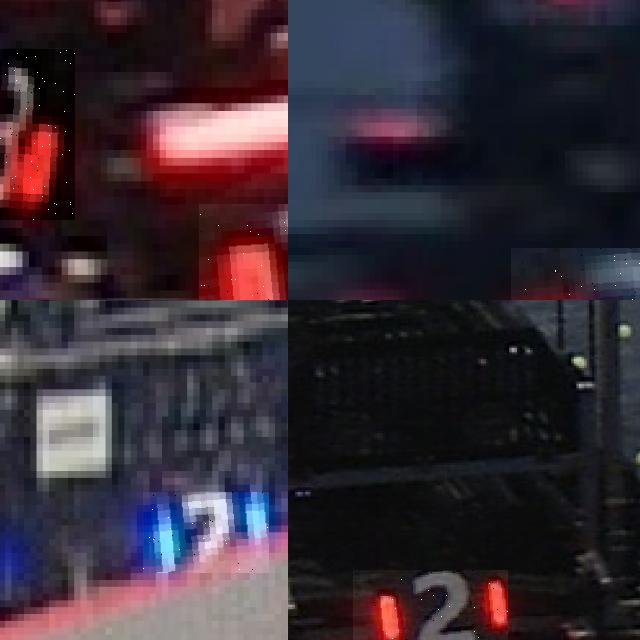B2: (143, 492, 269, 573)
R2: (353, 569, 508, 640)
R3: (0, 48, 74, 220), (198, 204, 288, 300)
